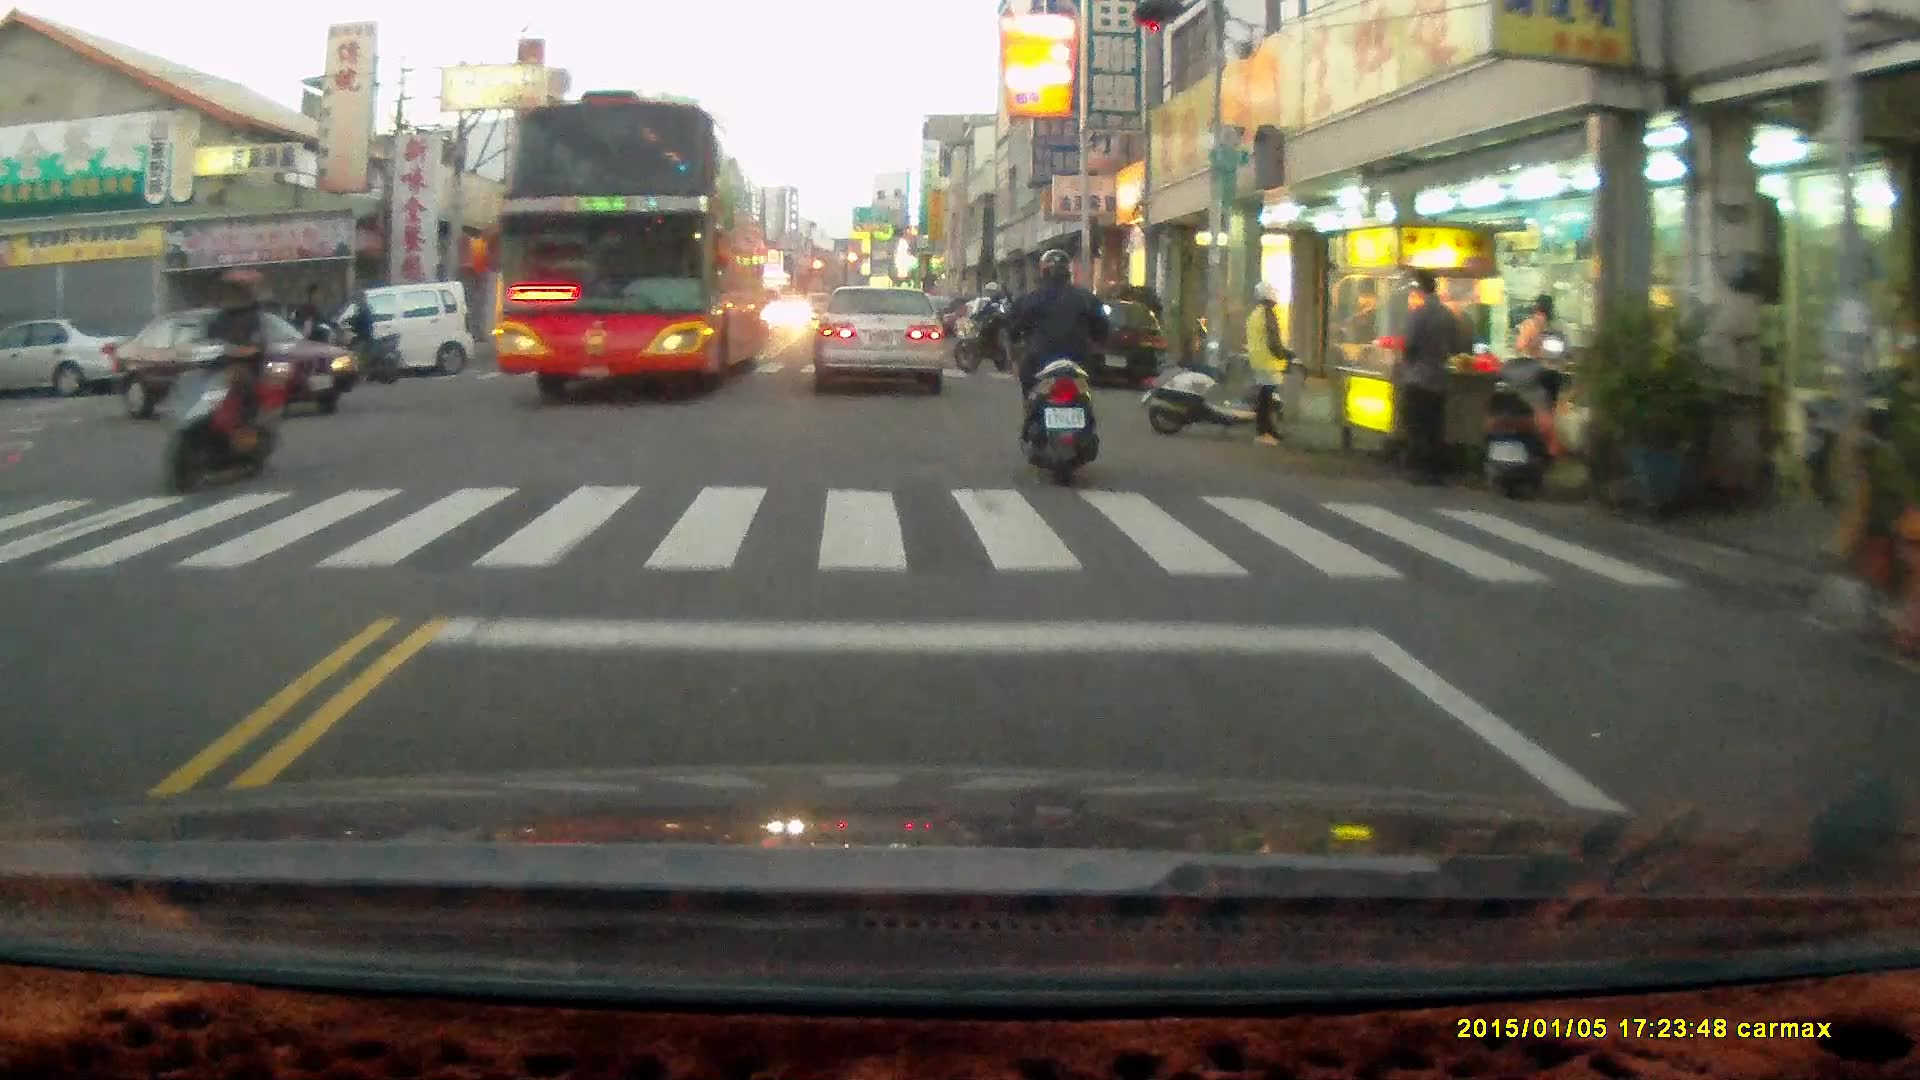pedestrian: (1398, 268, 1461, 485), (1514, 295, 1564, 466), (1245, 283, 1292, 451)
rider: (998, 243, 1113, 486), (161, 268, 278, 493), (273, 282, 367, 384), (323, 287, 398, 385), (949, 286, 1018, 380)
vehicle: (493, 94, 771, 401), (120, 308, 357, 419), (811, 283, 948, 397), (332, 279, 477, 379), (1048, 297, 1171, 395), (1, 314, 135, 402)
